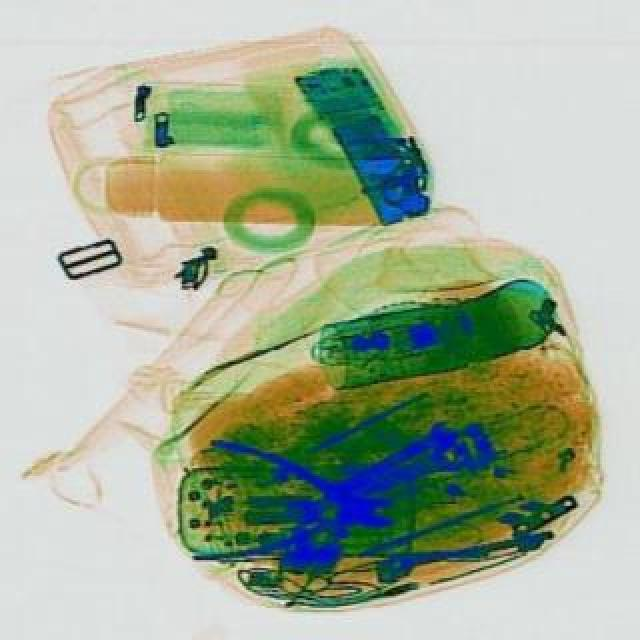scissors: (284, 414, 458, 530), (378, 530, 510, 578)
wrench: (184, 438, 396, 566)
